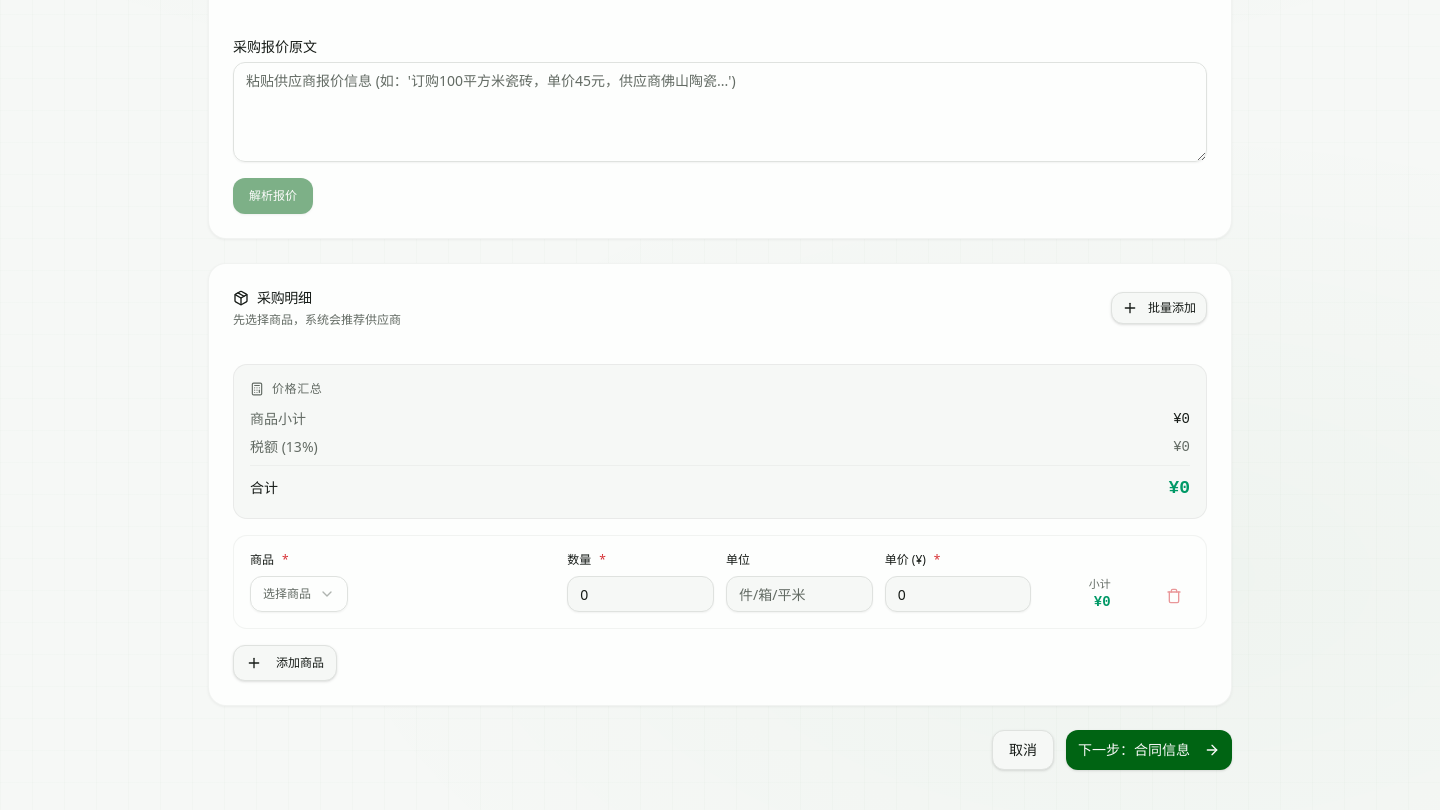
Test: CreatePurchasePage 交互逻辑 › 关键表单字段具备正确的标签关联与 id/name 属性
This screenshot has width=1440, height=810.
(page scrolled)
Click the dropdown named "商品 *" at (299, 594), box [250,576,348,612]
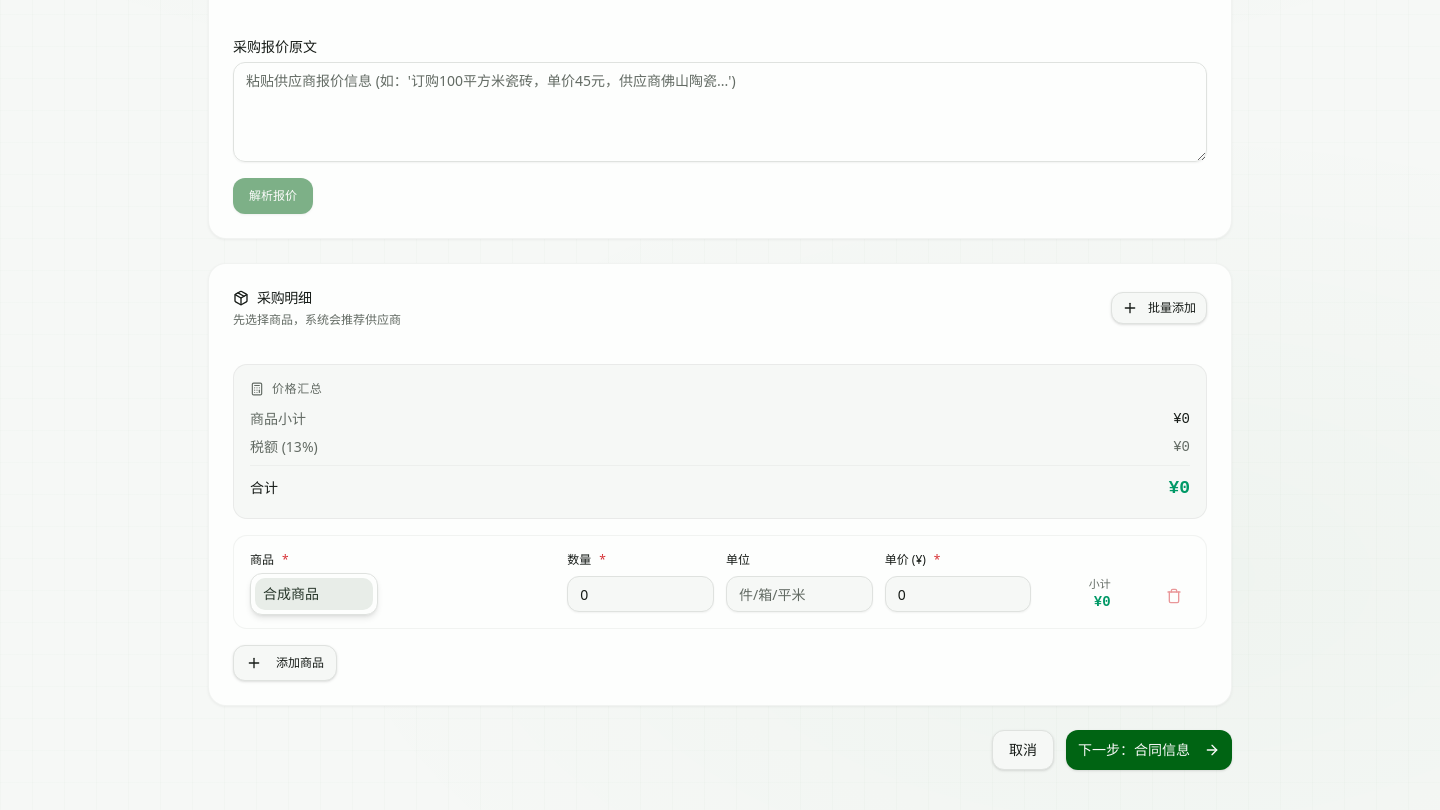
Click the option "合成商品" at (314, 594), box [255,578,373,610]
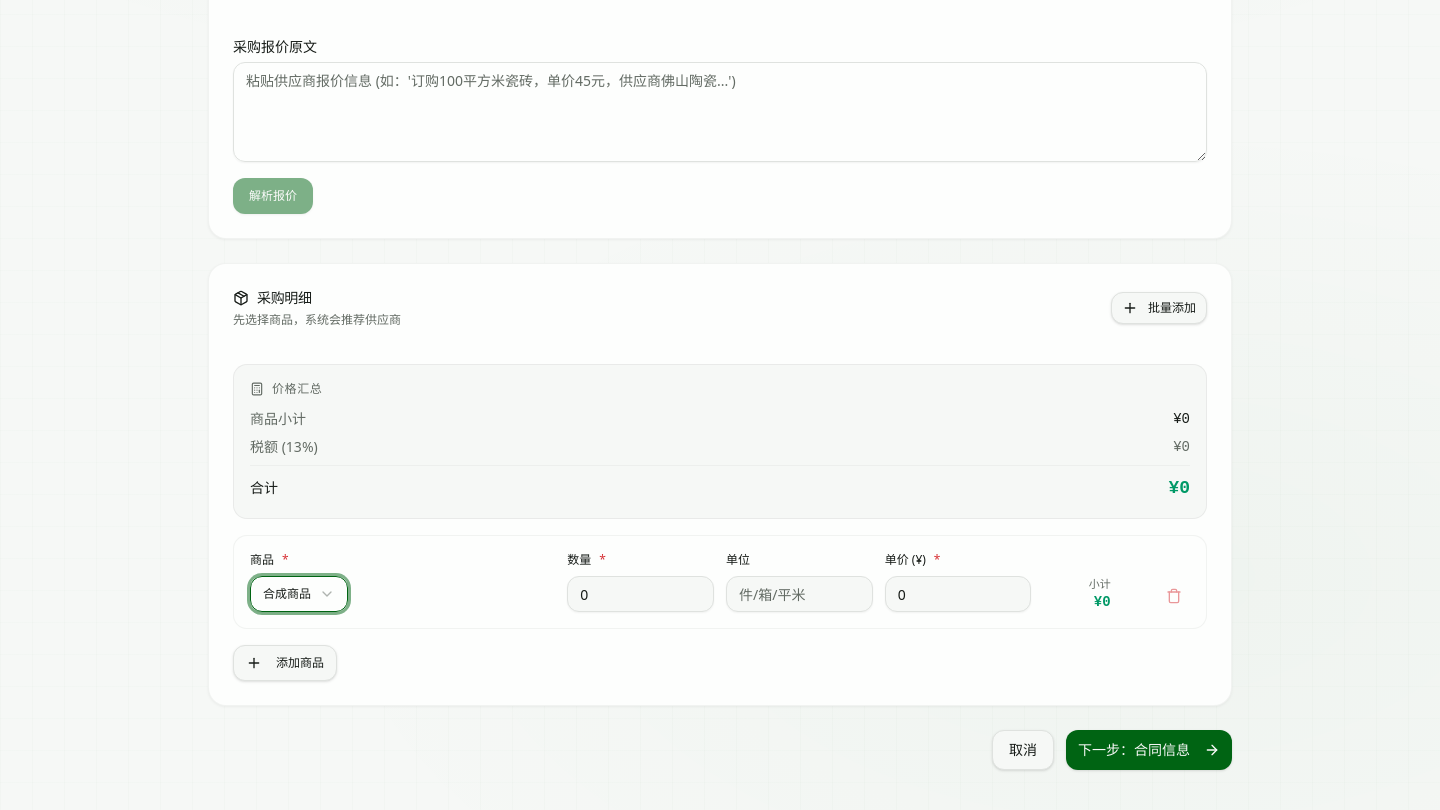
Type "1" into the number field labelled "数量 *" at (641, 594), box [567,576,714,612]
(page scrolled)
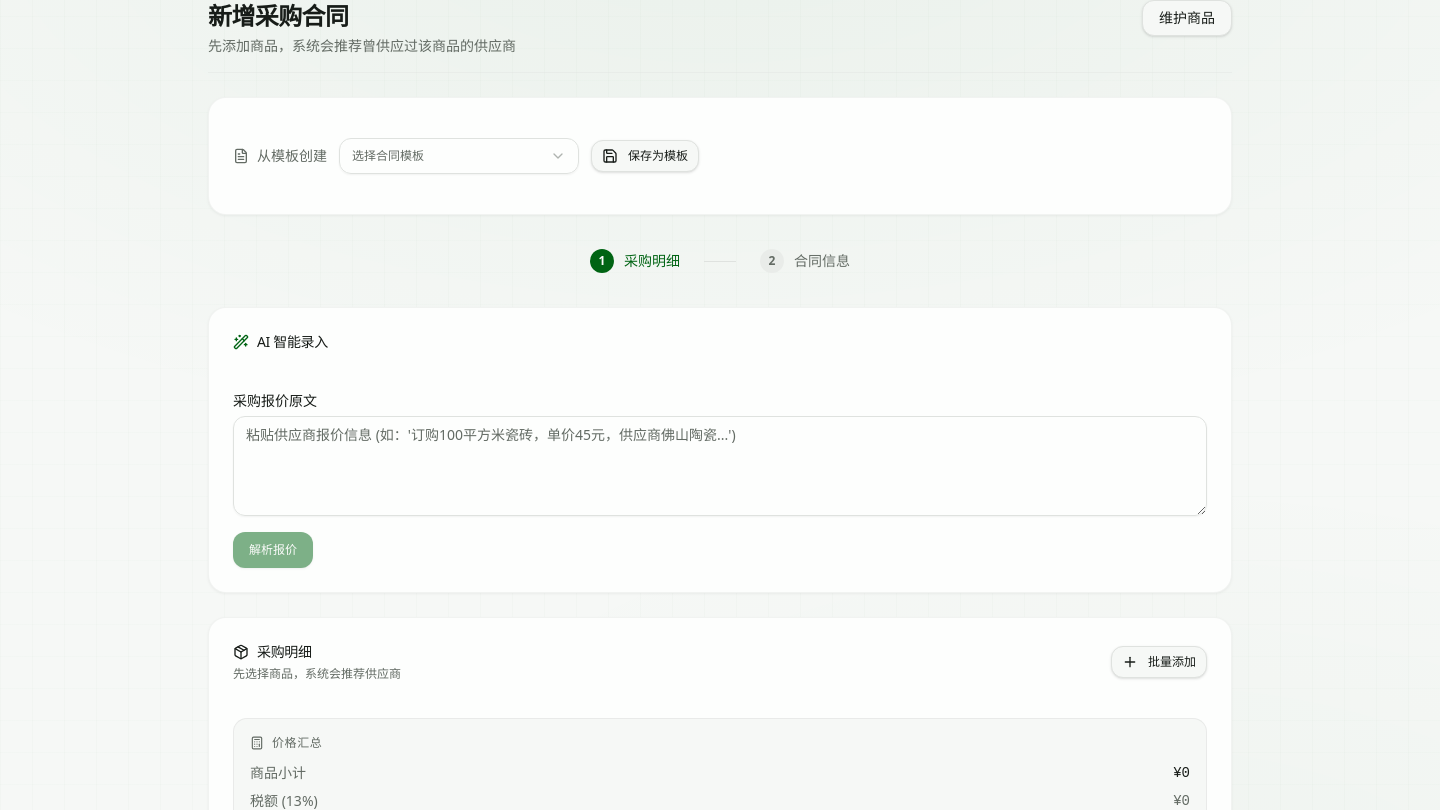
Click the button "2 合同信息" at (805, 261), box [744,239,866,283]
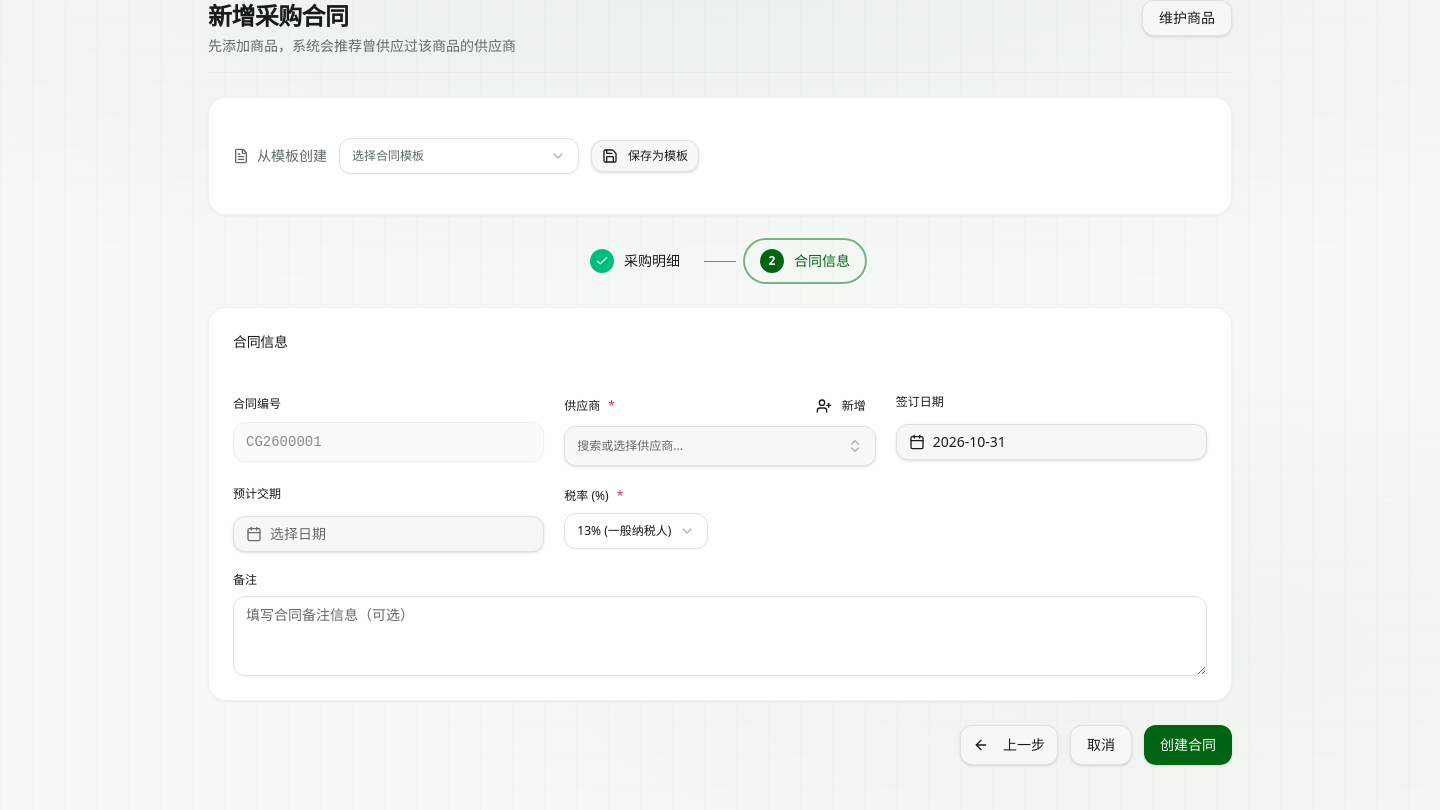
Click the dropdown named "供应商 *" at (630, 446), box [564,426,876,466]
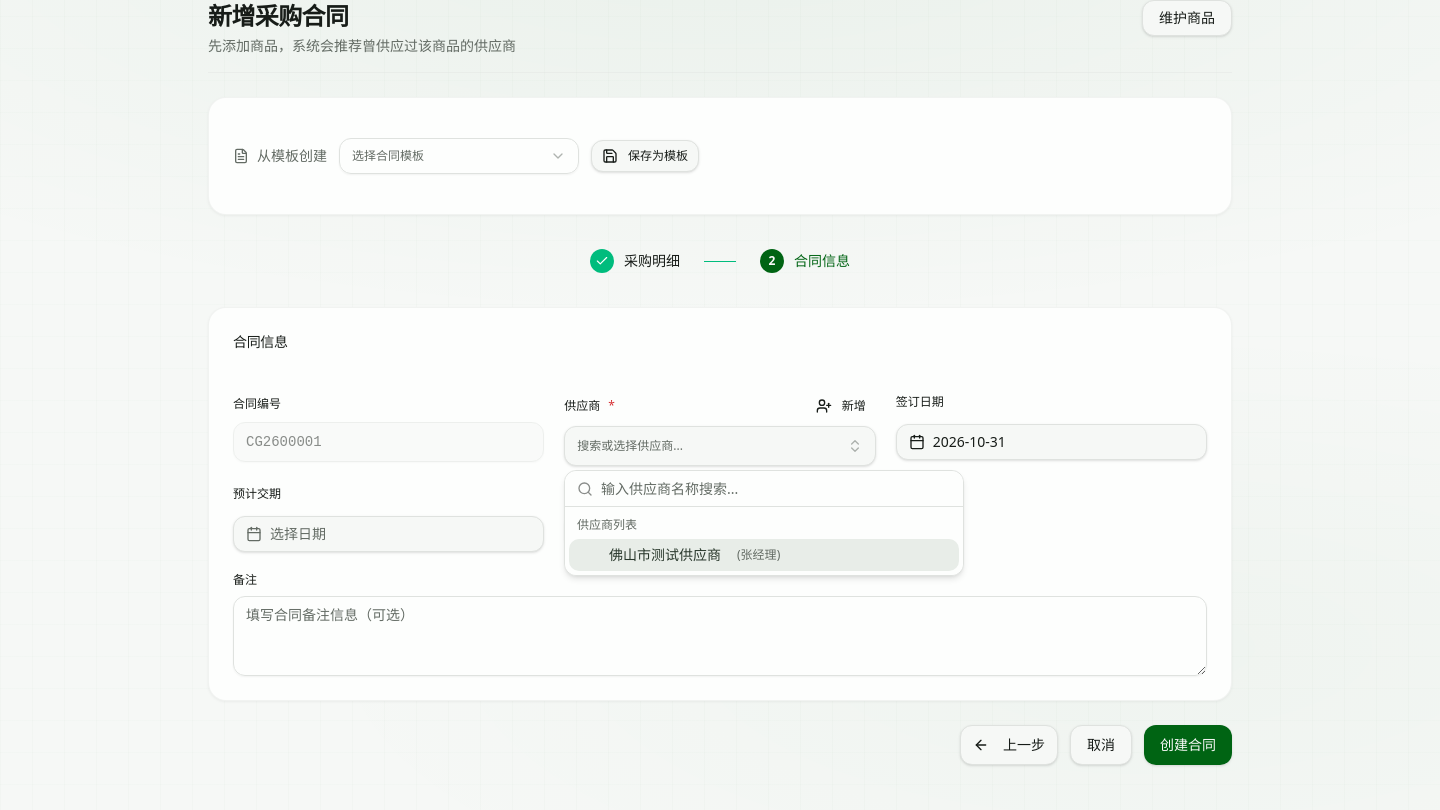
Click the button "新增" at (841, 406), box [806,394,876,418]
(page scrolled)
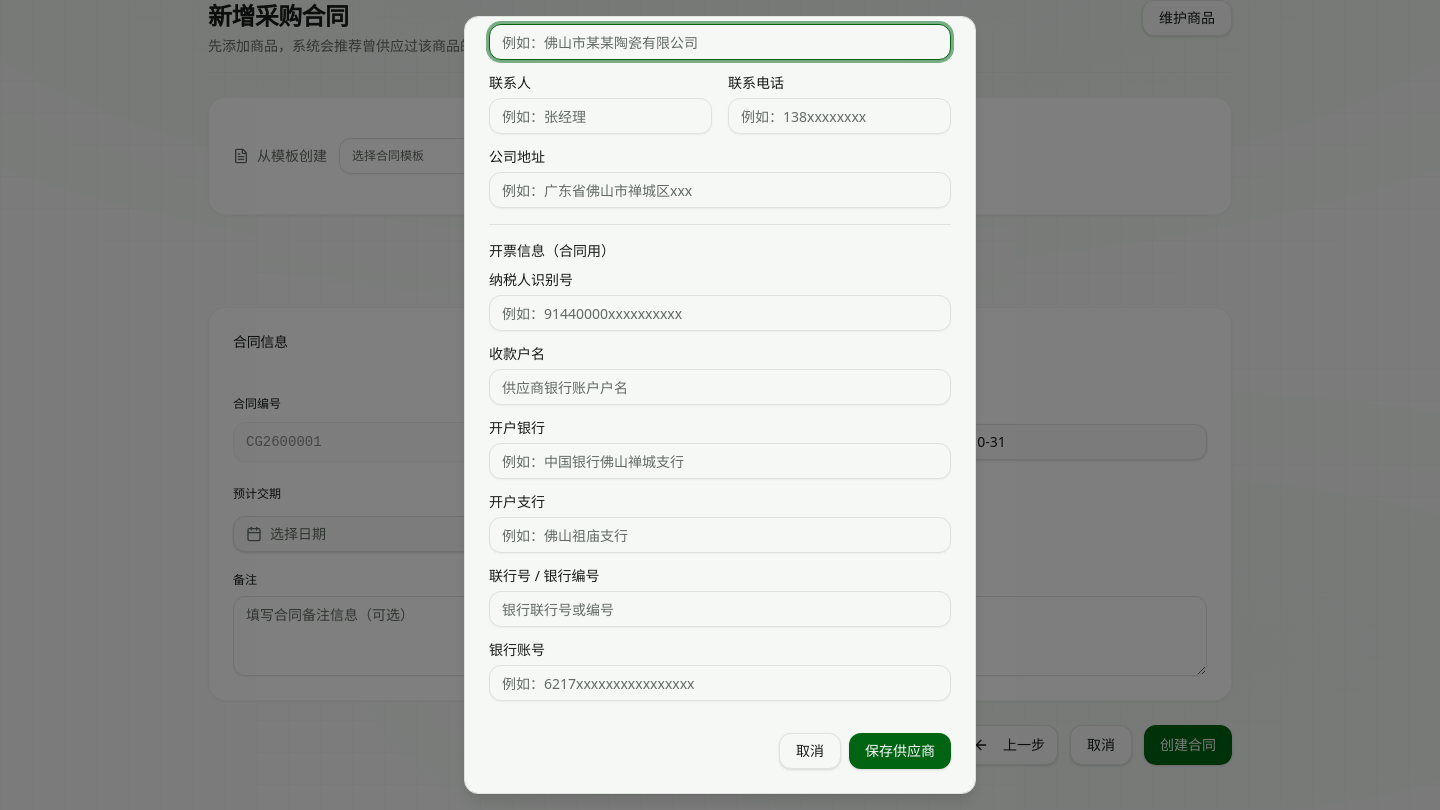
Expected: the dropdown named "供应商 *" is shown, [564,426,876,466]
Expected: the field labelled "供应商名称 *" is shown, [489,24,951,60]
Expected: the field labelled "联系人" is shown, [489,98,712,134]
